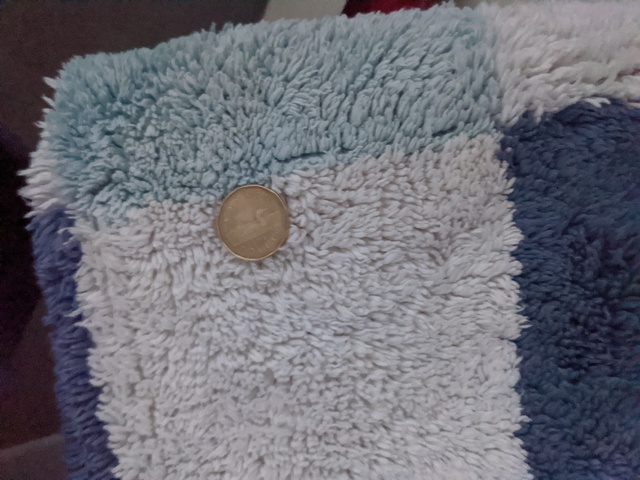loonie: (212, 181, 294, 266)
